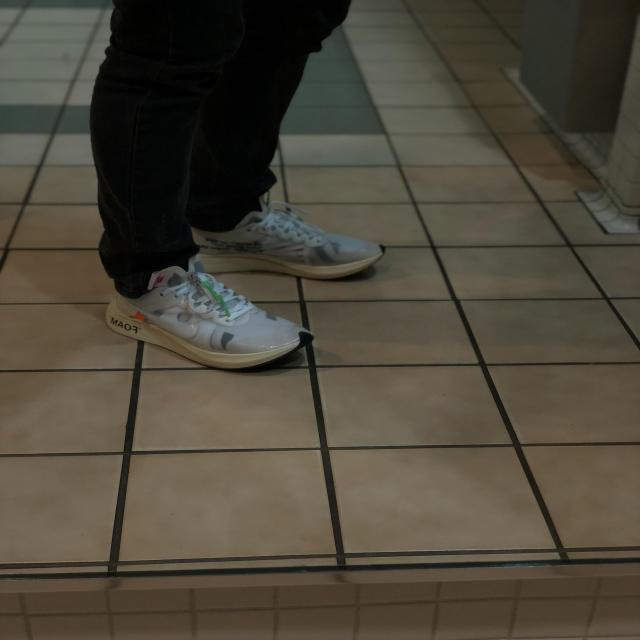shoe: (79, 260, 315, 373), (200, 194, 390, 286)
